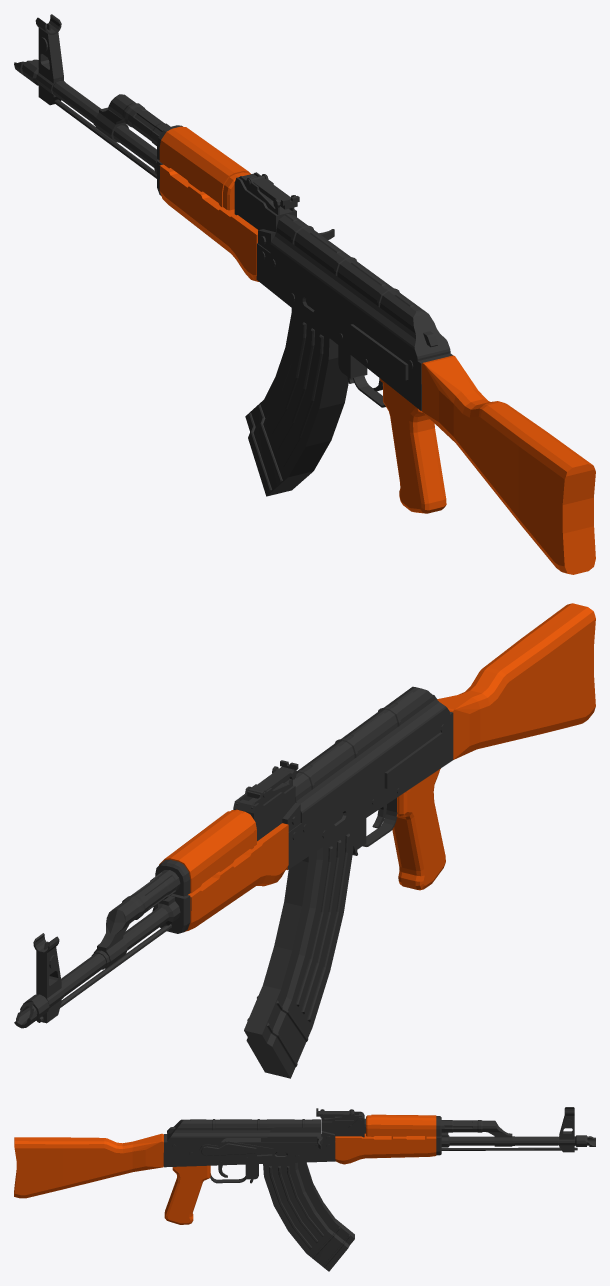
3 renders of one model, top to bottom at view 1: azimuth 30°, elevation 25°; view 2: azimuth 150°, elevation 25°; view 3: azimuth 270°, elevation 25°, orthographic. The views are drawn at different scales.
Parts seen in each view (by area): view 1: AK74, Mag; view 2: AK74, Mag; view 3: AK74, Mag, Bolt.
Part boxes in pixels (bbox=[...]): AK74: bbox=[14, 14, 595, 574]; Mag: bbox=[245, 308, 348, 496]; AK74: bbox=[14, 603, 595, 1028]; Mag: bbox=[244, 826, 354, 1078]; AK74: bbox=[14, 1107, 595, 1224]; Mag: bbox=[263, 1162, 354, 1271]; Bolt: bbox=[261, 1127, 322, 1149].
Bounding box in the file's own units: 6.44 × 28.48 × 94.02.
